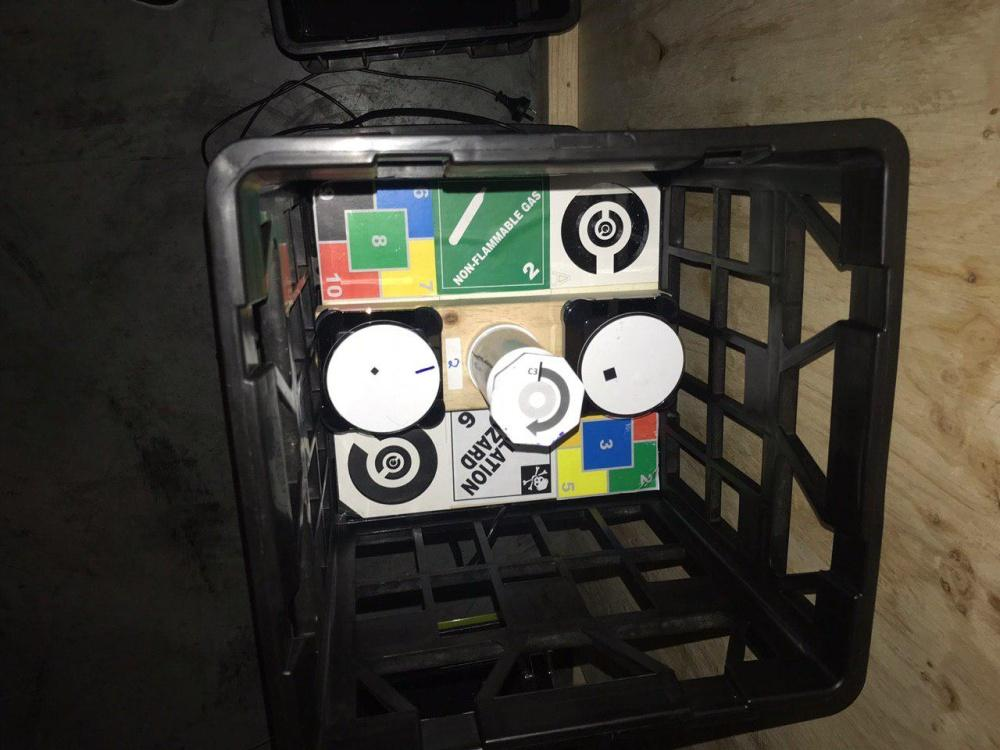non-flammable-gas: (437, 180, 549, 293)
poison: (450, 411, 554, 504)
